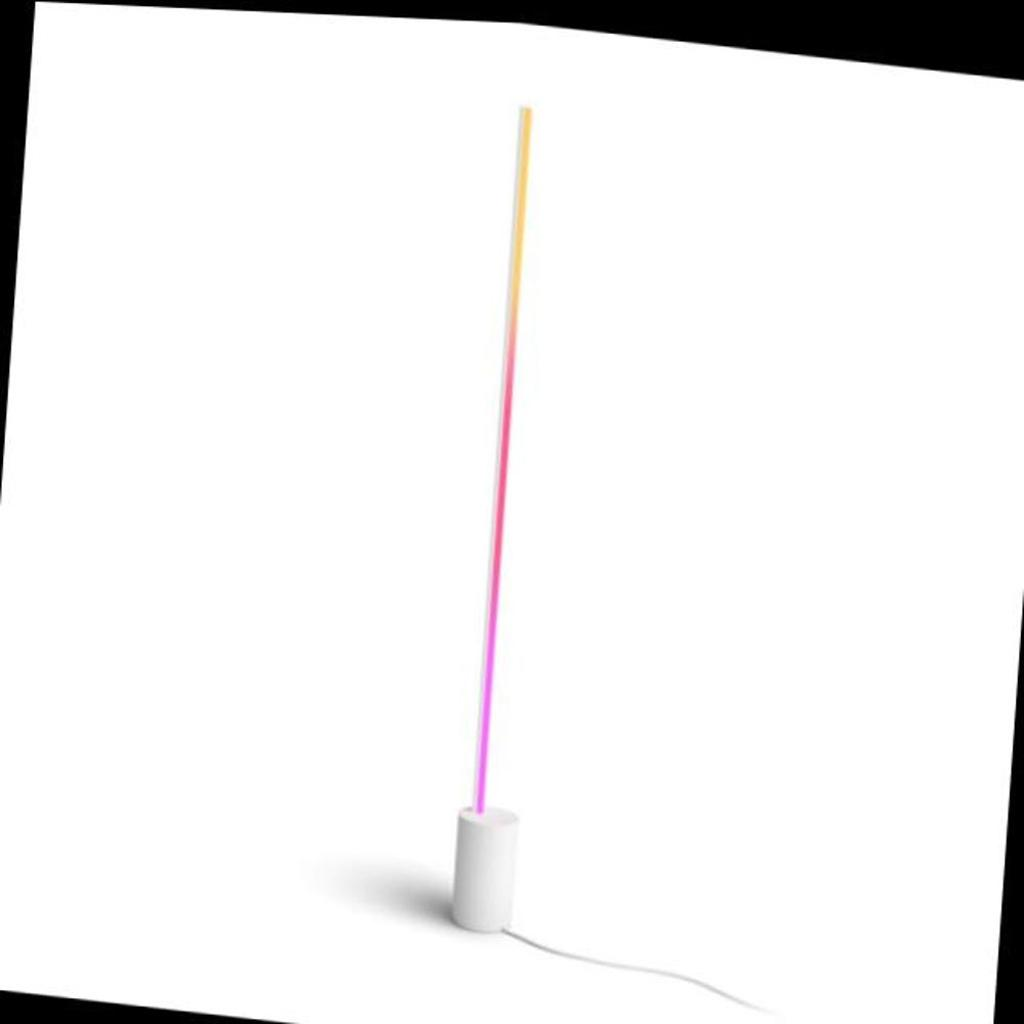shelf: (352, 47, 896, 1024)
